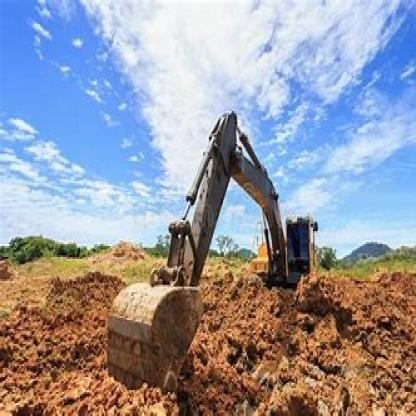excavator: (96, 81, 341, 383)
